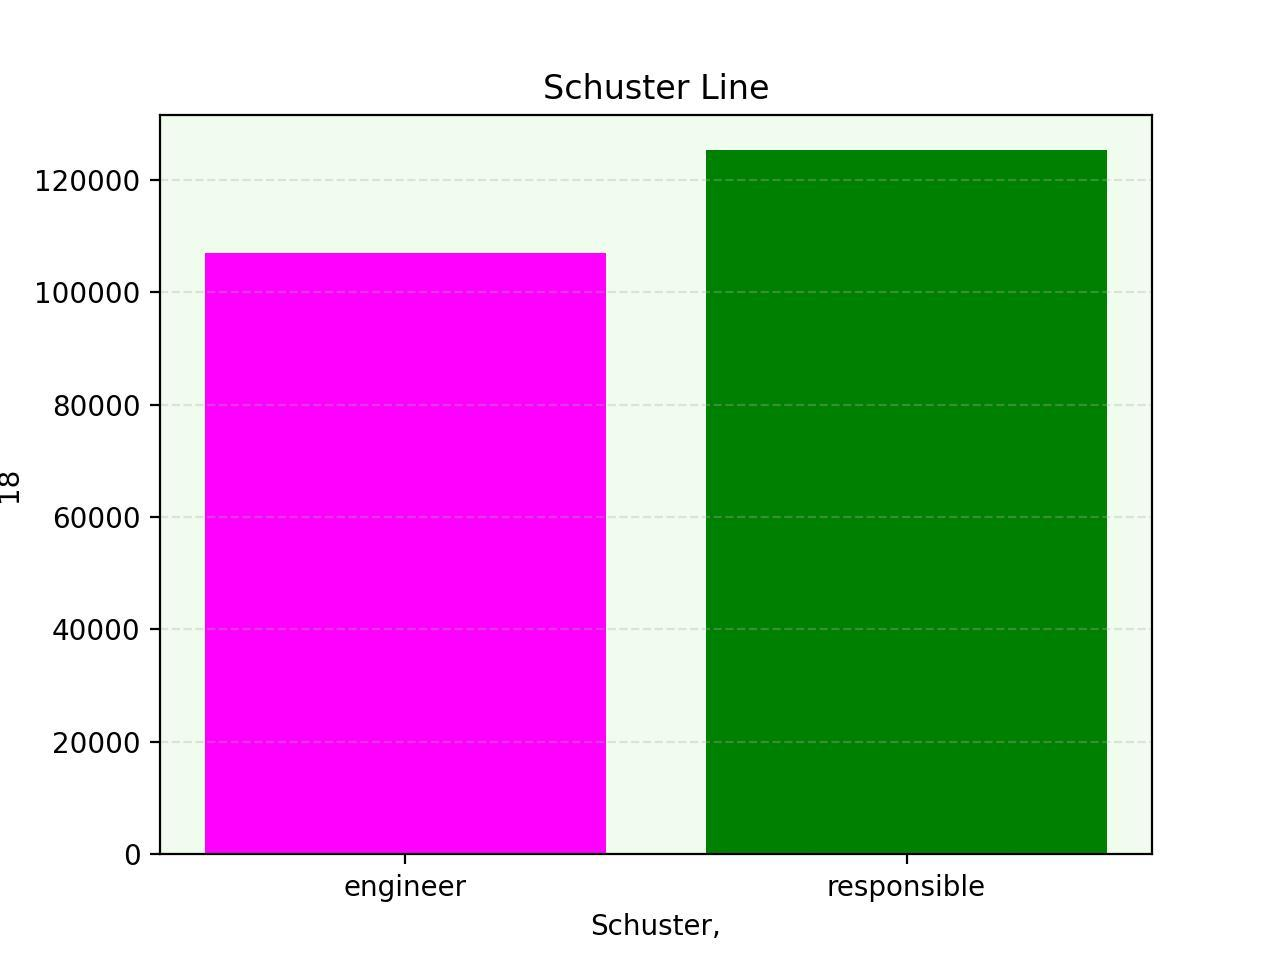axis: (0, 168, 141, 871)
rectangle: (706, 150, 1107, 854), (205, 253, 606, 854)
